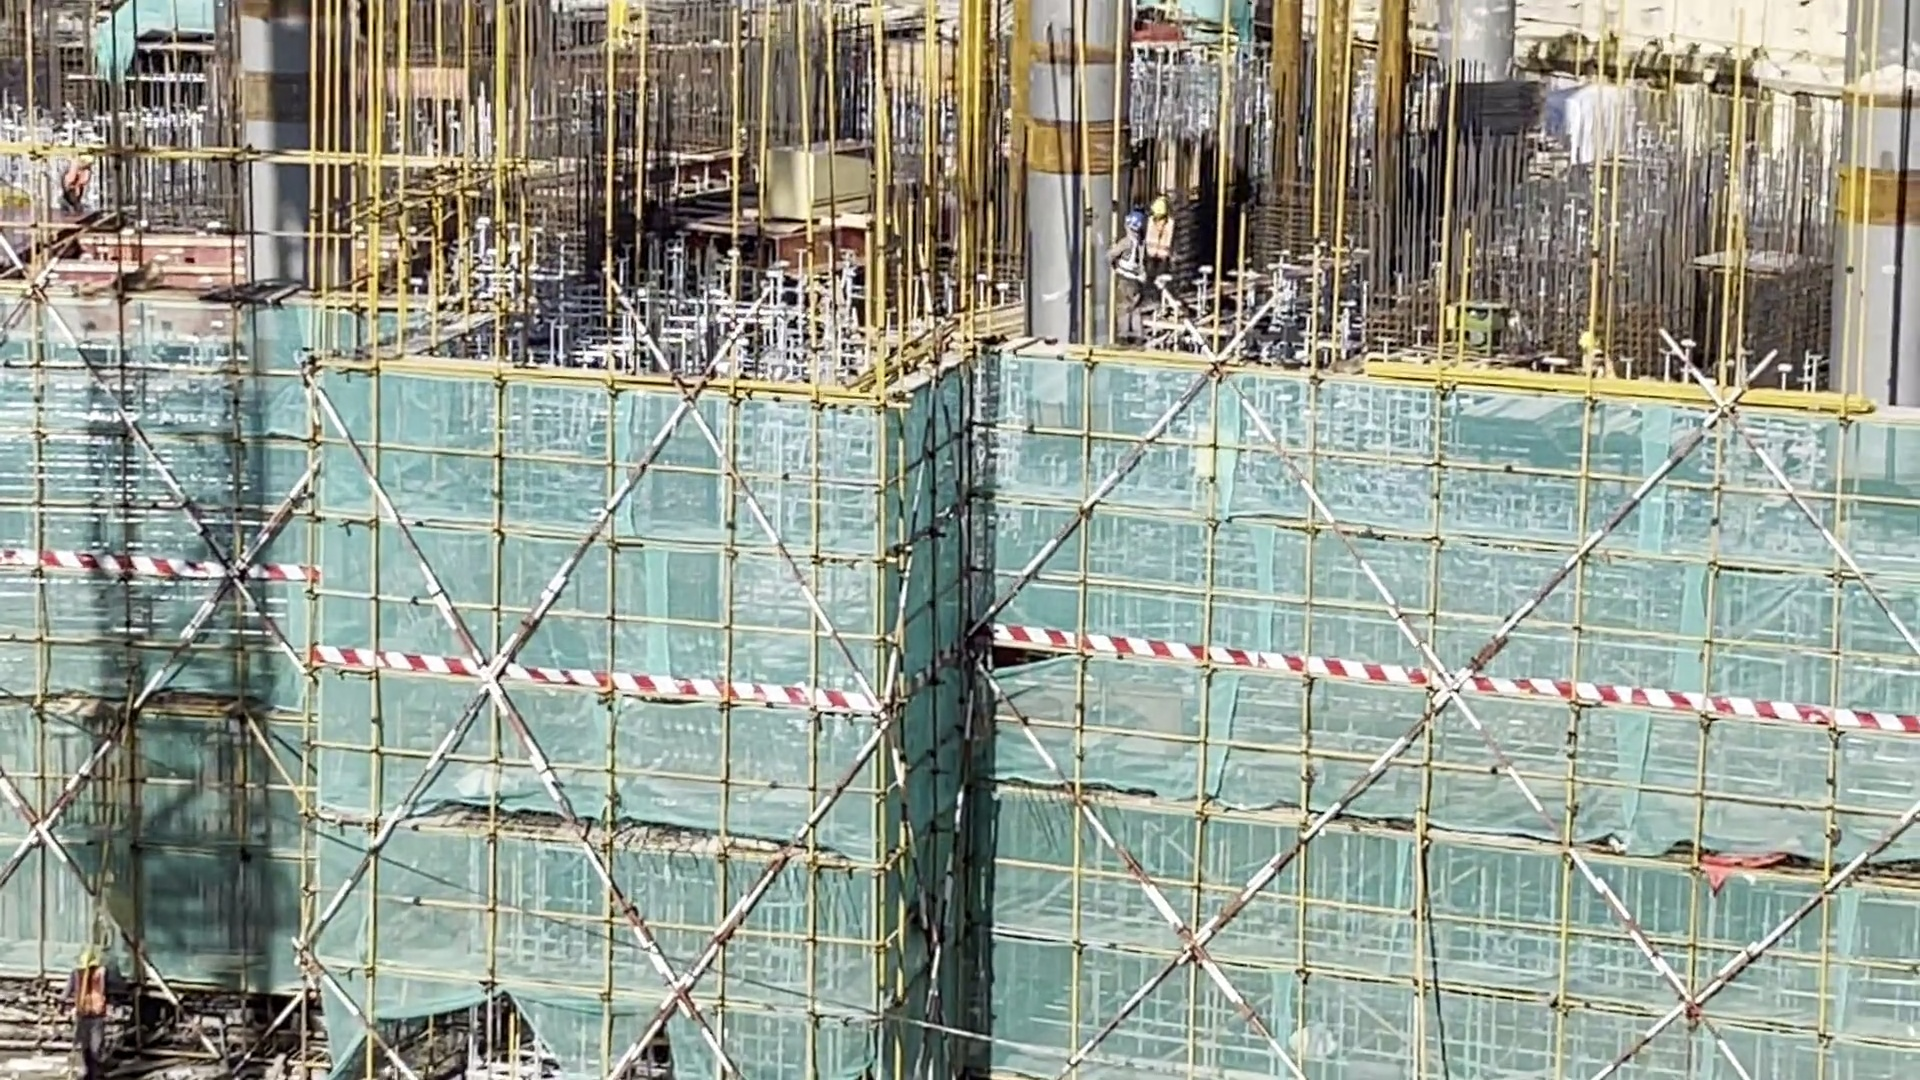helmet: (1151, 198, 1169, 215)
person: (67, 954, 109, 1069), (1111, 212, 1146, 333), (1147, 197, 1174, 293)
vest: (70, 970, 109, 1029), (1146, 218, 1169, 260), (1119, 253, 1140, 281)
